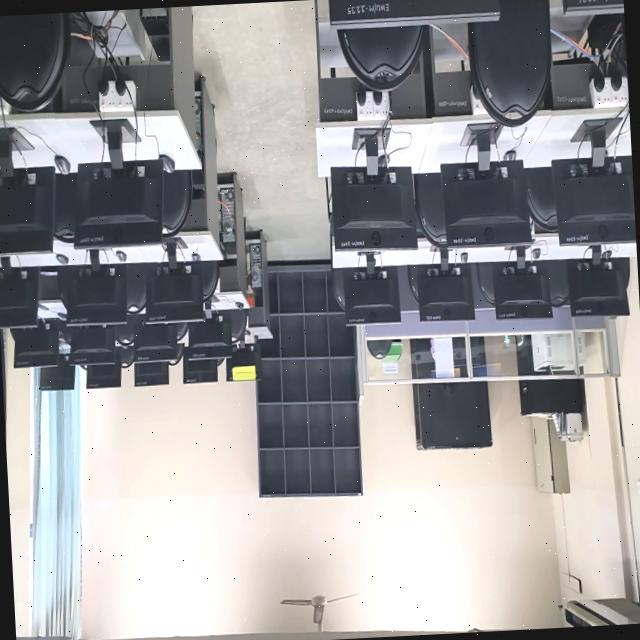Chair: (470, 0, 552, 123), (0, 13, 73, 113), (337, 28, 428, 93), (160, 168, 196, 240), (414, 172, 446, 248), (526, 167, 556, 230), (128, 264, 146, 316), (550, 262, 570, 308), (202, 260, 222, 300), (230, 309, 248, 344), (366, 340, 394, 360), (117, 325, 133, 345)
Cpu: (141, 8, 172, 60)
Monitor: (71, 148, 166, 249), (324, 158, 420, 255), (438, 157, 532, 247), (552, 153, 636, 249), (327, 0, 507, 35), (0, 155, 57, 259), (566, 250, 628, 322), (66, 263, 130, 328), (492, 255, 554, 322), (144, 258, 204, 324), (342, 264, 402, 328), (418, 265, 475, 323), (10, 322, 60, 370), (0, 270, 41, 327), (188, 309, 232, 359), (131, 320, 179, 362), (67, 326, 117, 366), (224, 342, 262, 386), (180, 347, 220, 388), (558, 0, 624, 21), (39, 362, 77, 396), (84, 361, 123, 389), (132, 361, 170, 389)
Mouse: (51, 150, 71, 182), (162, 153, 176, 174), (115, 249, 128, 264), (56, 252, 69, 266), (459, 250, 470, 264), (532, 247, 542, 259), (234, 300, 244, 309)
